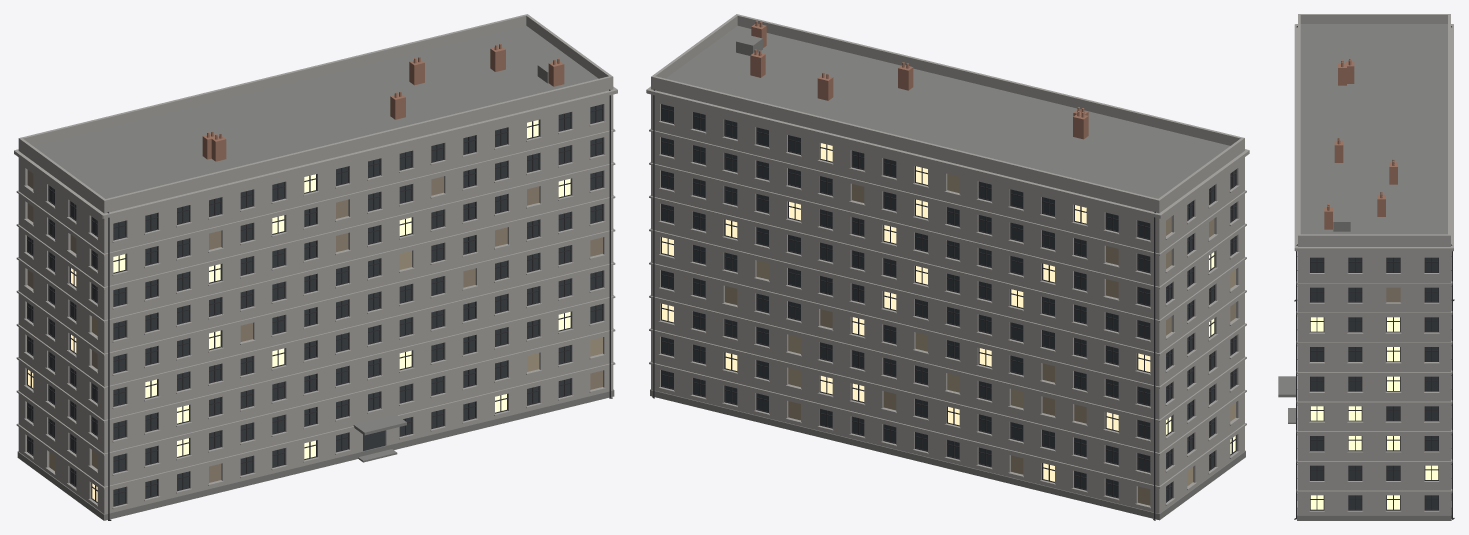
File: party_block_c.glb
3 views of the same model, side by side, from view 1: azimuth 30°, elevation 25°; view 2: azimuth 150°, elevation 25°; view 3: azimuth 270°, elevation 25° (orthographic). The views are drawn at different scales.
Parts seen in each view (by area): view 1: party_block_c; view 2: party_block_c; view 3: party_block_c.
Boxes of the visible parts, box(x1,y1,x2,y2) form: party_block_c: box(14, 14, 617, 520); party_block_c: box(646, 14, 1249, 520); party_block_c: box(1278, 14, 1454, 520).
Size of the model in its own units: 48.6 by 30.14 by 16.15.
